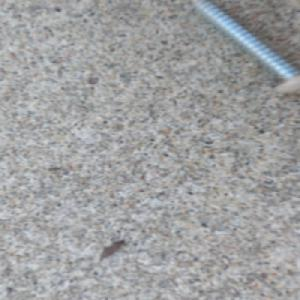Screw: (187, 0, 300, 96)
